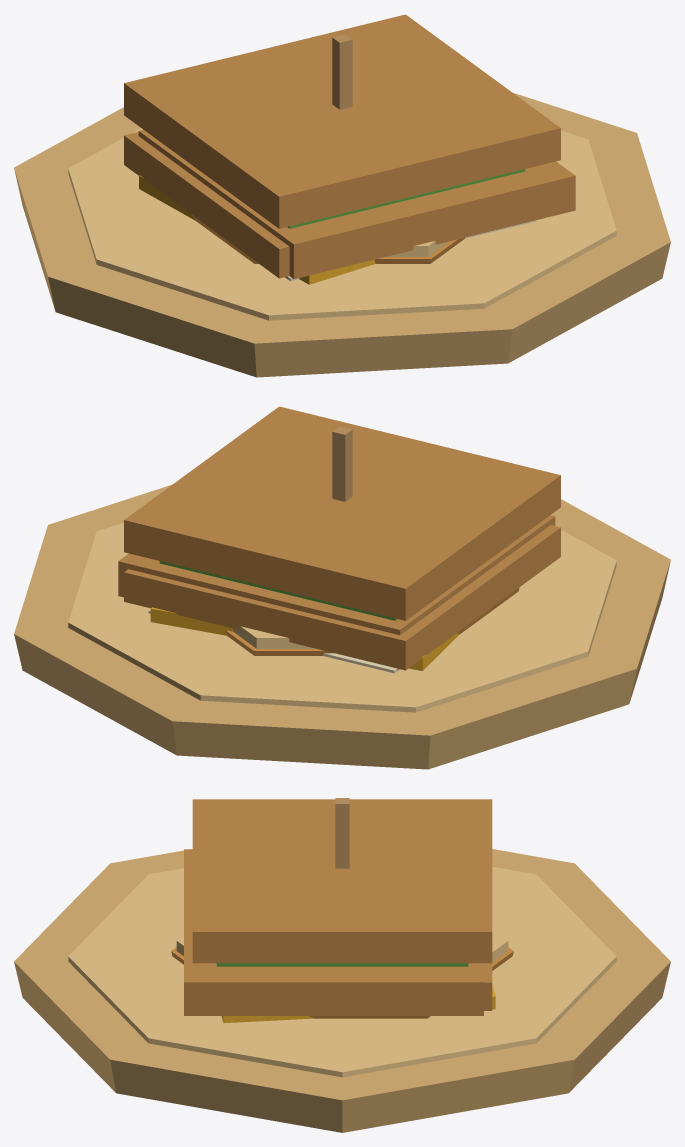
The model's file is food_parts.glb.
3 views of the same model, one above another, from view 1: azimuth 30°, elevation 25°; view 2: azimuth 150°, elevation 25°; view 3: azimuth 270°, elevation 25° (orthographic). The views are drawn at different scales.
Parts seen in each view (by area): view 1: dough_base, club_stack, grilled_cheese, bun_bottom; view 2: dough_base, club_stack, grilled_cheese, bun_bottom; view 3: dough_base, club_stack, grilled_cheese, bun_bottom.
Part boxes in pixels (x1,y1,x2,y2): dough_base: (14,93,670,377); club_stack: (124,14,560,278); grilled_cheese: (138,129,575,284); bun_bottom: (191,214,464,263); dough_base: (14,485,670,769); club_stack: (124,406,560,670); grilled_cheese: (118,515,555,670); bun_bottom: (225,587,519,655); dough_base: (14,849,670,1132); club_stack: (192,798,492,1010); grilled_cheese: (184,849,495,1023); bun_bottom: (171,929,513,1018).
Bounding box in the file's own units: 0.23 × 0.076 × 0.23.
1 material, 1 textured.
